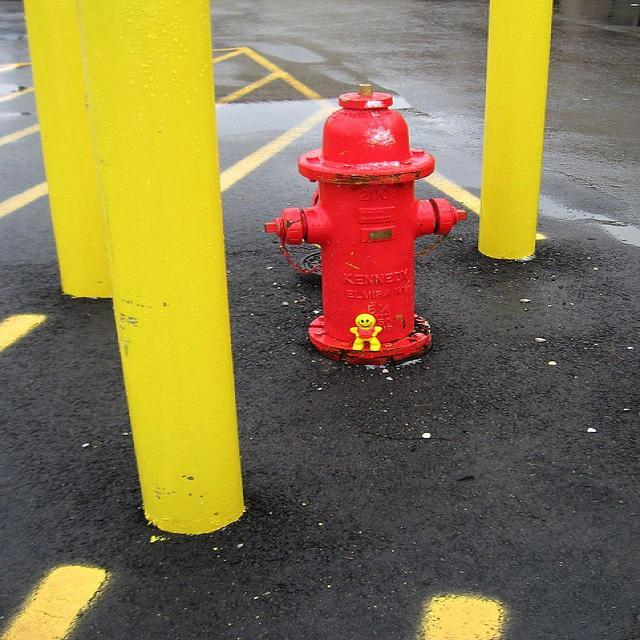fire_hydrant: (266, 86, 472, 363)
